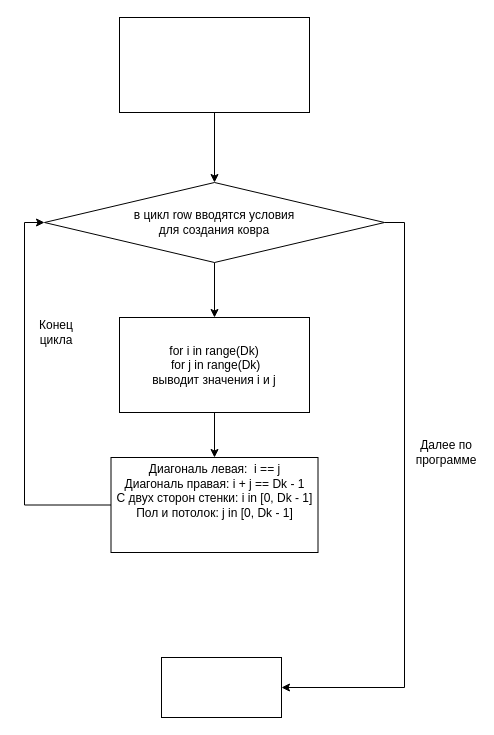
Image size: 494x735. Some labels were removed from this diagram. The shapes that lost their labels are listed below. From the top down, each one's box as (x1, y1, x2, y2) in pixels, then its label:
(118, 16, 310, 112): инпут размера ковра Dk = int(input())
(160, 656, 282, 718): Выводит фигуру print(*row)
